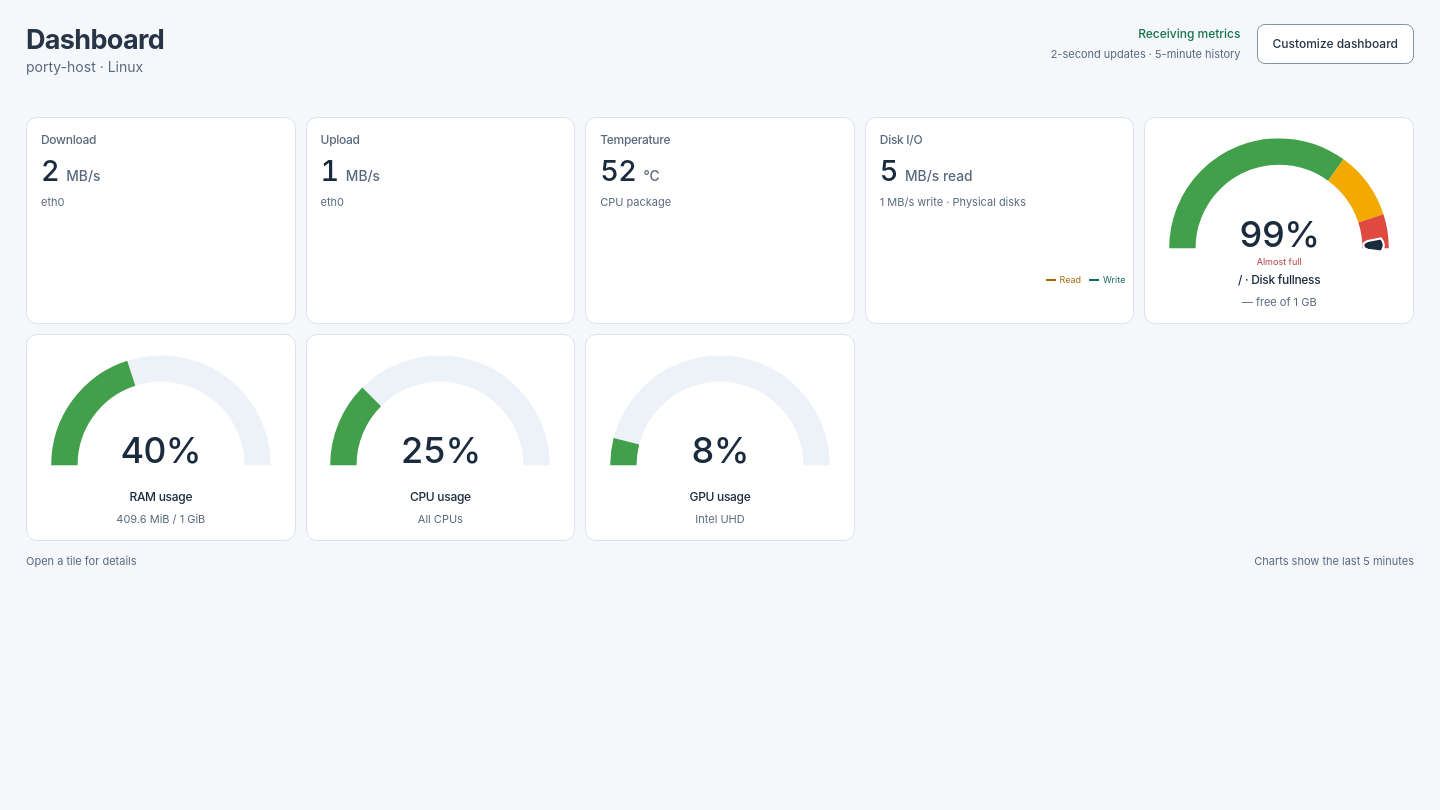
Scenario: keeps general monitoring problems in customization without exposing internal source names
Click the button "Customize dashboard" at (1335, 44), box [1256,24,1414,64]
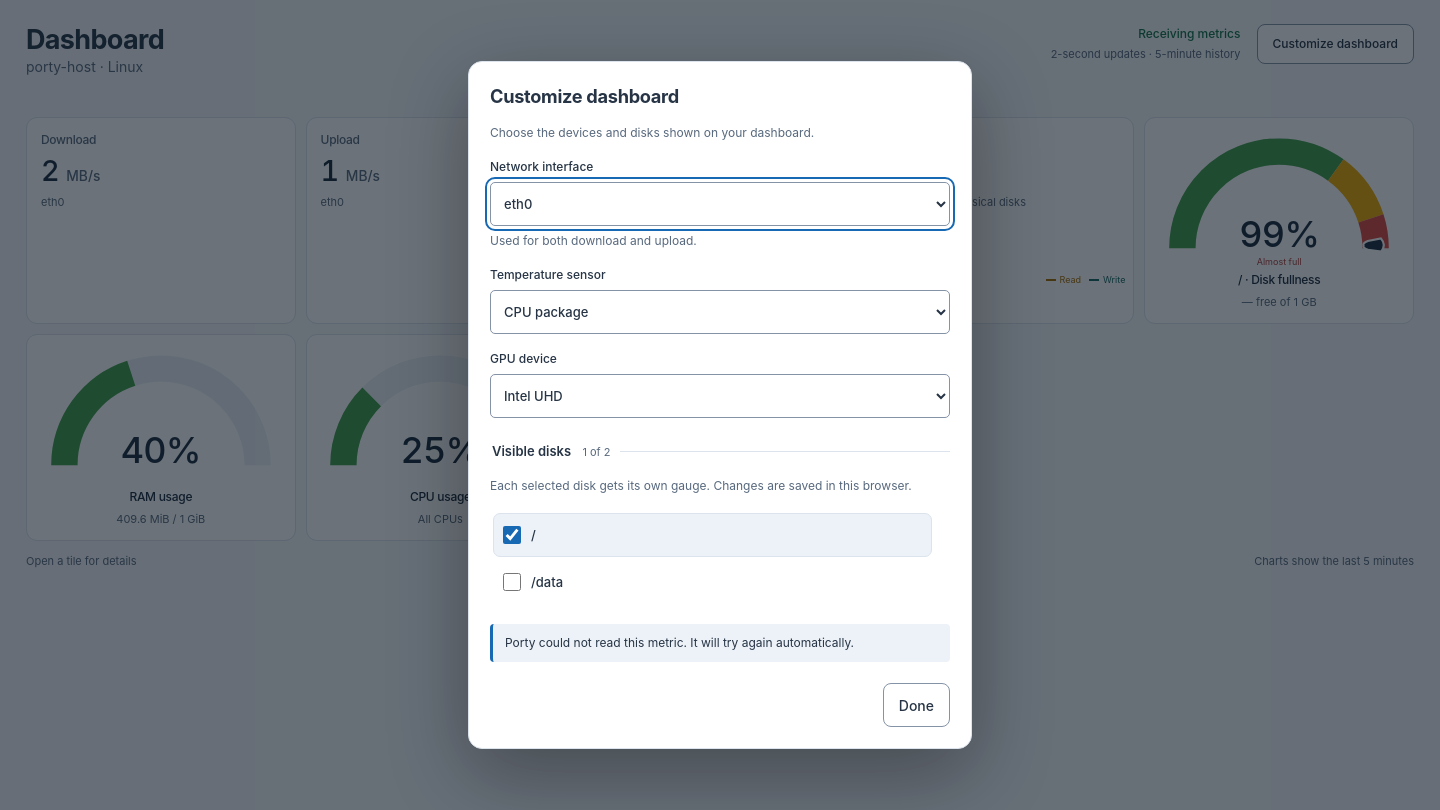
Expected: the text "Porty could not read this metric. It will try again automatically." is shown, [505,635,854,650]
